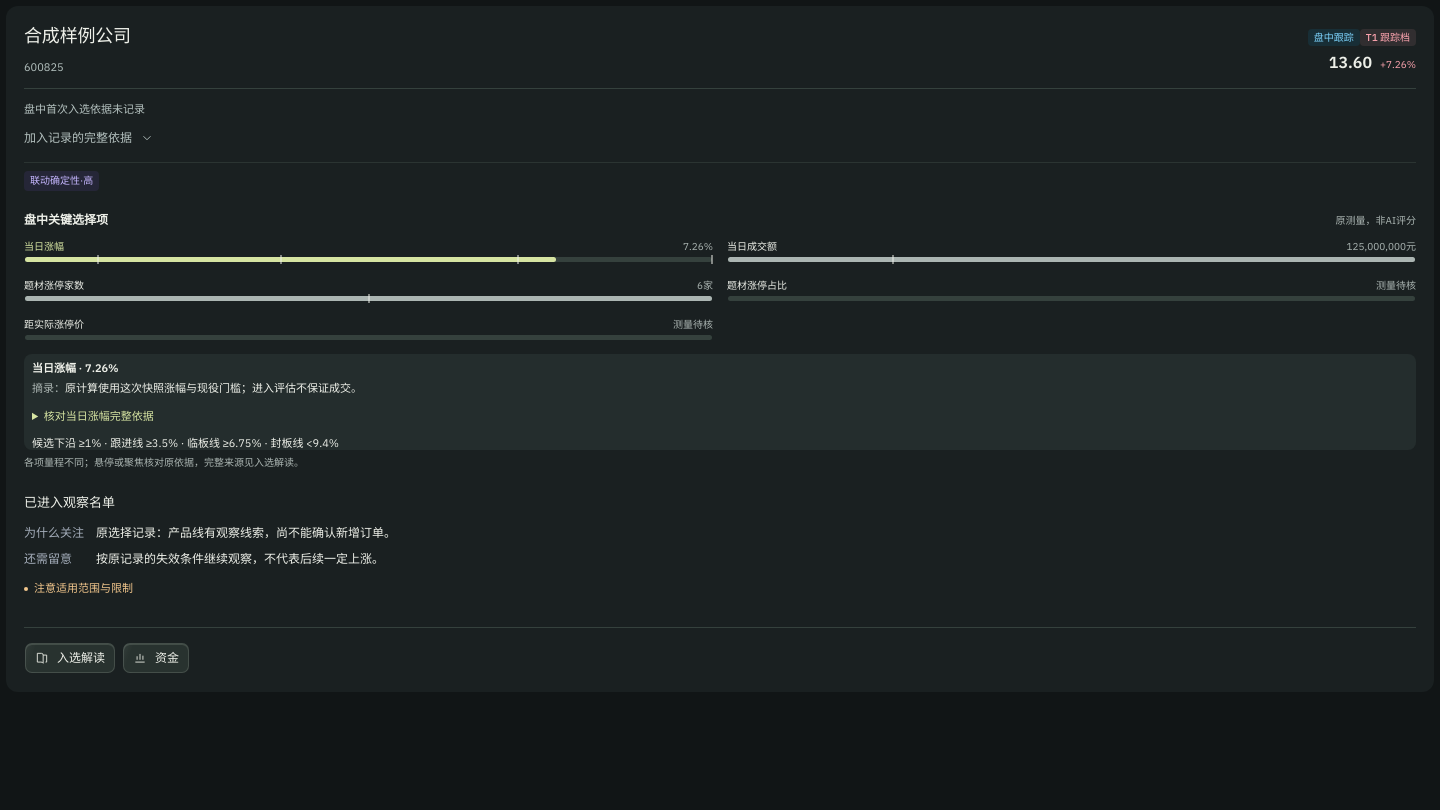
Test: intraday cards show original measurements and variable producer thresholds, not invented six-dimension scores
Click the button "入选解读" at coordinates (70, 658), box [24,642,116,674]
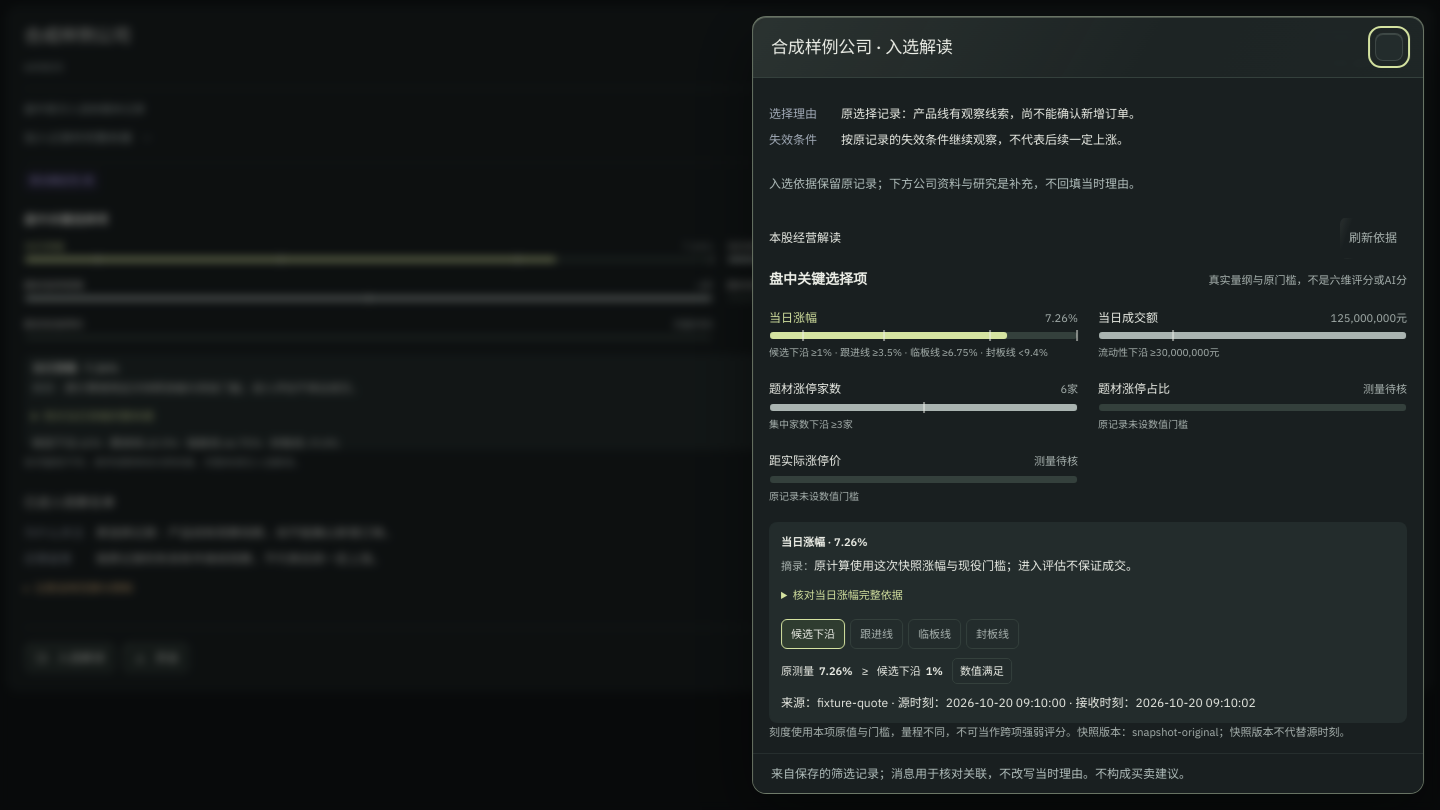
Now the element "盘中关键选择项" shows "跟进线 ≥3.5%", box [769,301,1078,368]
Now the element "盘中关键选择项" shows "临板线 ≥6.75%", box [769,301,1078,368]
Hover over the button with aria-label "核对当日成交额原测量" at coordinates (1252, 335), box [1098,301,1407,368]
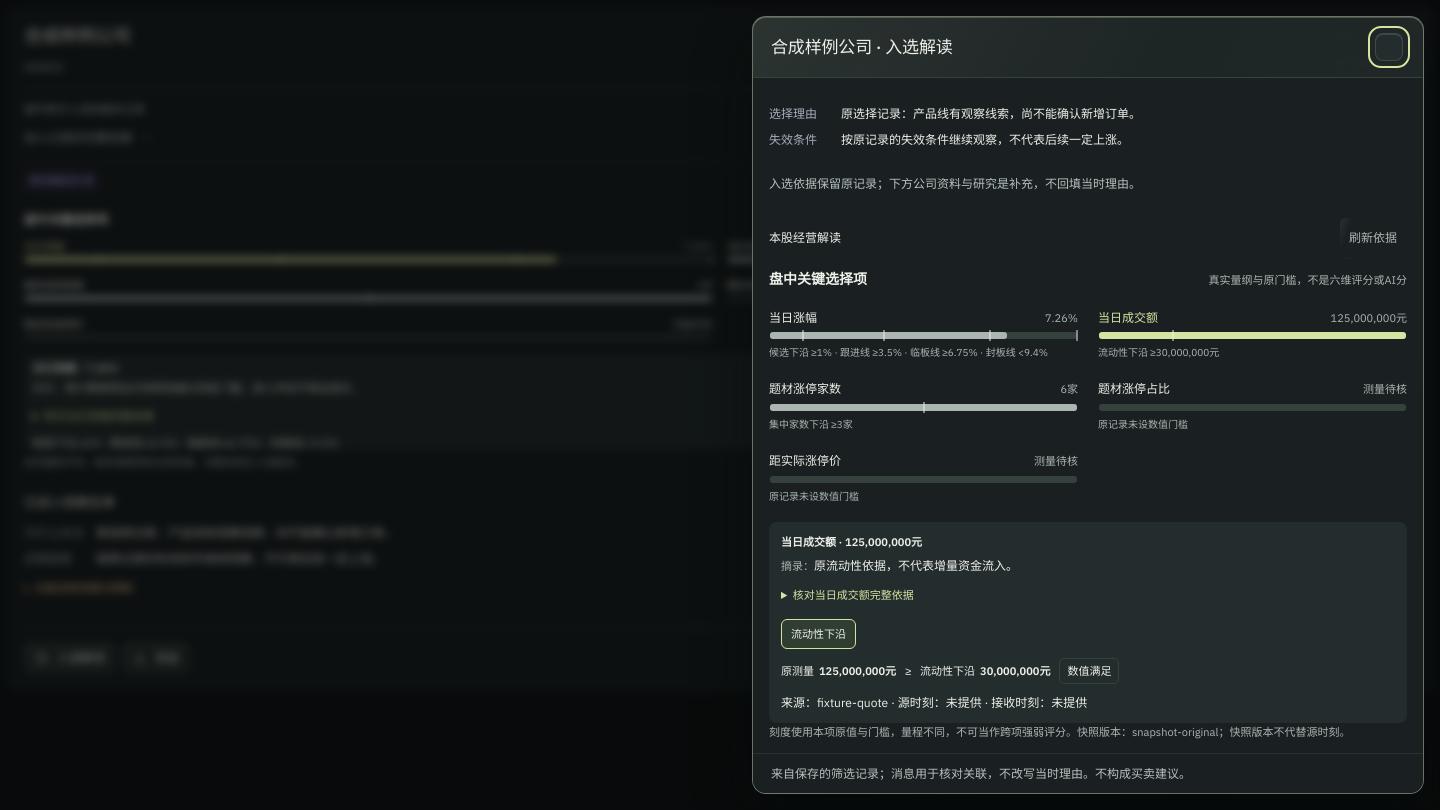
Now the element named "当前原测量依据" shows "不代表增量资金流入", box [814,558,1018,573]
Now the element named "当前原测量依据" shows "源时刻：未提供", box [769,522,1407,723]
Now the element named "当前原测量依据" shows "接收时刻：未提供", box [769,522,1407,723]
Focus the button with aria-label "核对当日涨幅原测量" at coordinates (924, 335), box [769,301,1078,368]
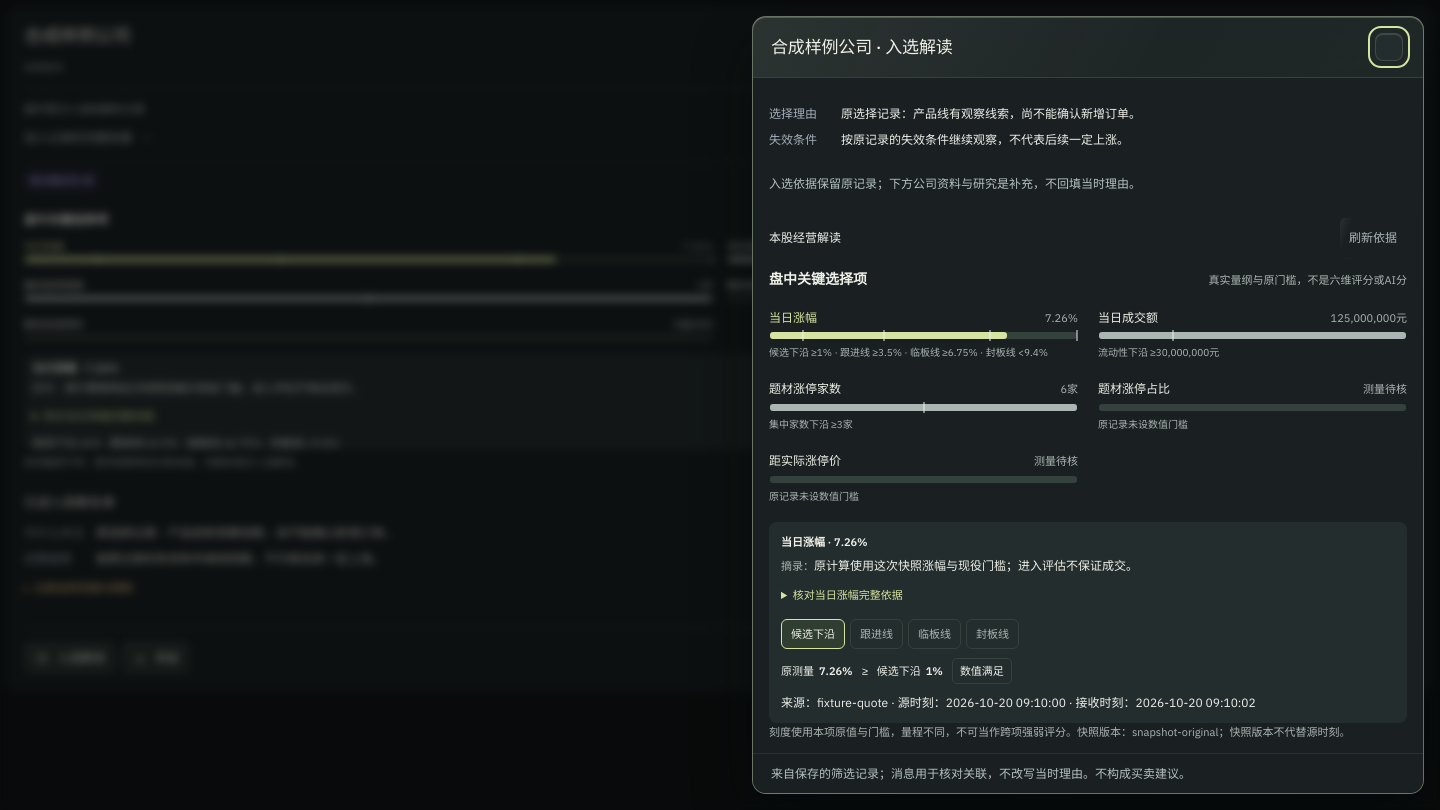
Now the element named "当前原测量依据" shows "09:10:00", box [946,695,1066,710]
Now the element named "当前原测量依据" shows "09:10:02", box [1136,695,1256,710]
